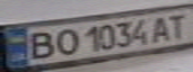0: (97, 20, 118, 51)
1: (78, 22, 103, 52)
3: (115, 19, 136, 48)
4: (130, 16, 154, 46)
A: (148, 12, 175, 43)
B: (21, 28, 60, 61)
O: (51, 26, 81, 56)
T: (163, 10, 193, 39)
